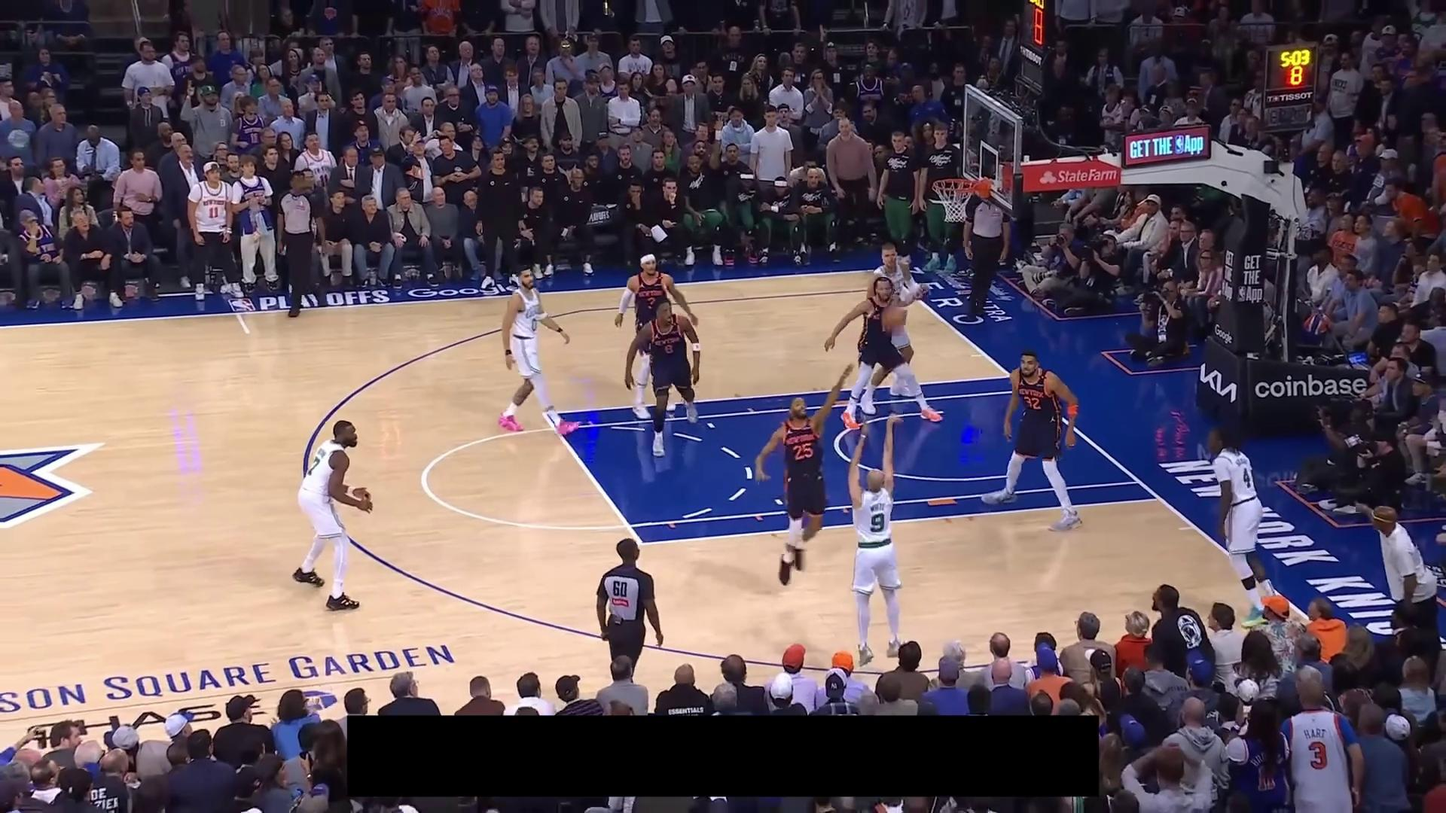ball: (881, 303, 907, 330)
number: (792, 442, 814, 461), (871, 513, 885, 533), (307, 457, 321, 477), (1241, 467, 1252, 489), (1025, 395, 1041, 410), (529, 316, 539, 333), (664, 343, 674, 355), (647, 296, 656, 307)
player: (980, 346, 1083, 533), (822, 273, 943, 428), (1204, 422, 1283, 631), (290, 418, 374, 612), (496, 264, 582, 437), (614, 251, 700, 420), (624, 298, 703, 459), (859, 241, 920, 415)
player-jump-shot: (846, 411, 905, 668)
player-shot-block: (753, 361, 856, 586)
referee: (596, 537, 664, 684), (274, 170, 328, 318), (962, 193, 1011, 316)
rim: (932, 178, 978, 192)
